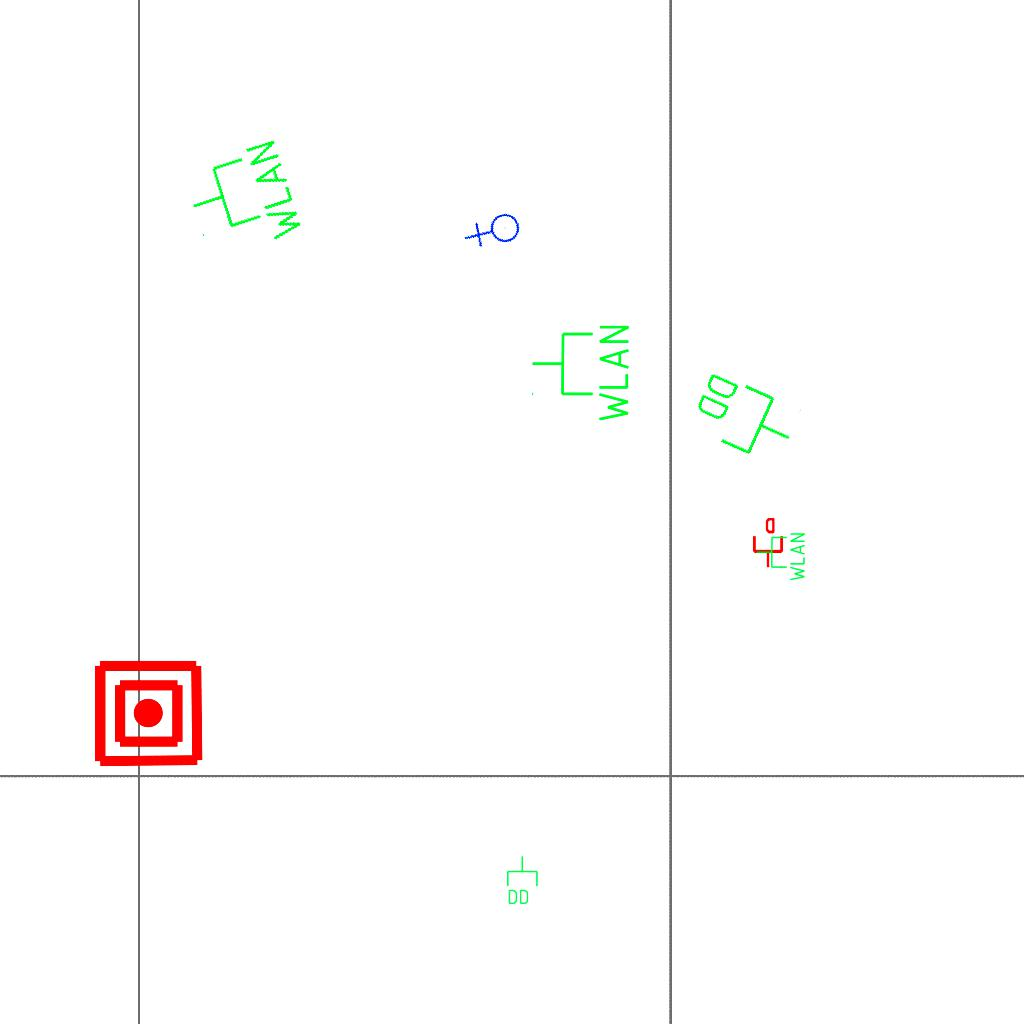Datenanschluss_einfach: (751, 518, 785, 568)
Datenanschluss_zweifach: (683, 365, 806, 470), (505, 855, 539, 906)
Elektroanschluss_allgemein_230V_Geraeteanschlussdose_230V: (462, 199, 529, 266)
NAM-Nichtautomatischer_Melder: (92, 657, 205, 770)
WLAN: (177, 134, 309, 267), (529, 321, 633, 426), (755, 531, 807, 583)
